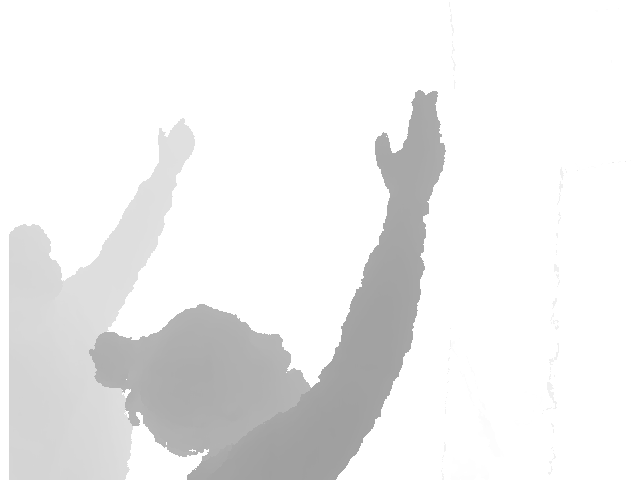hand: (374, 90, 446, 206), (156, 118, 196, 176)
head: (88, 304, 307, 460), (8, 224, 63, 301)
person: (89, 90, 447, 480), (9, 116, 197, 480)
